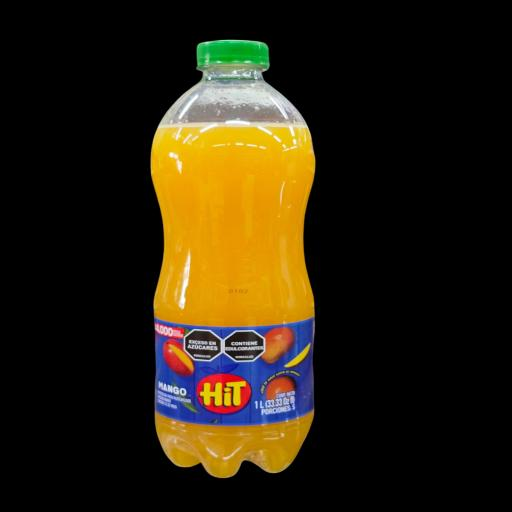JugoHM: (137, 34, 364, 492)
